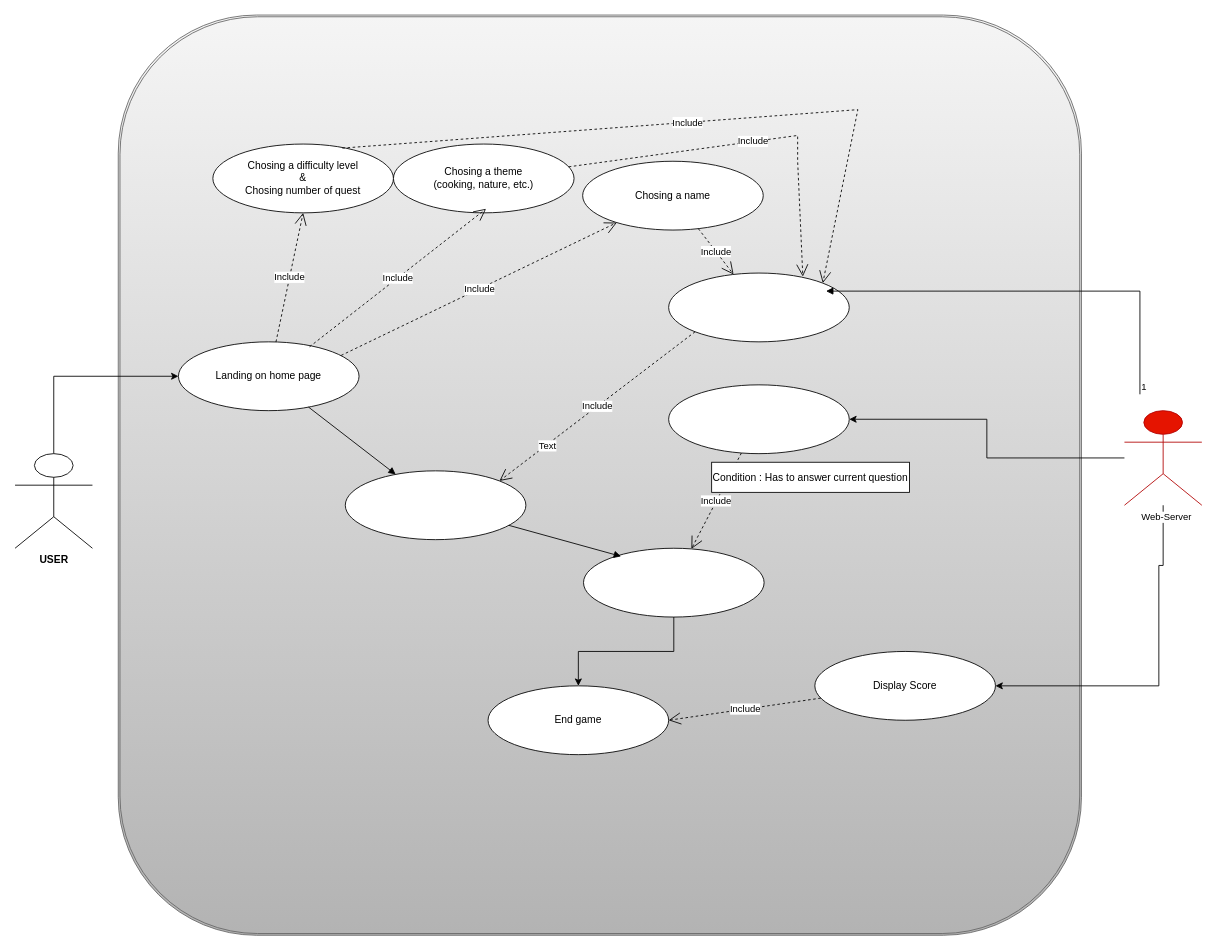
Image size: 1217x950. Some labels were removed from this diagram. The centre of each missing label's shape, as x and y in pixels:
Checking registration: the point at 758,307
Generate question: the point at 673,582
Start the game: the point at 435,505
UPDATE QUESTION: the point at 758,419
